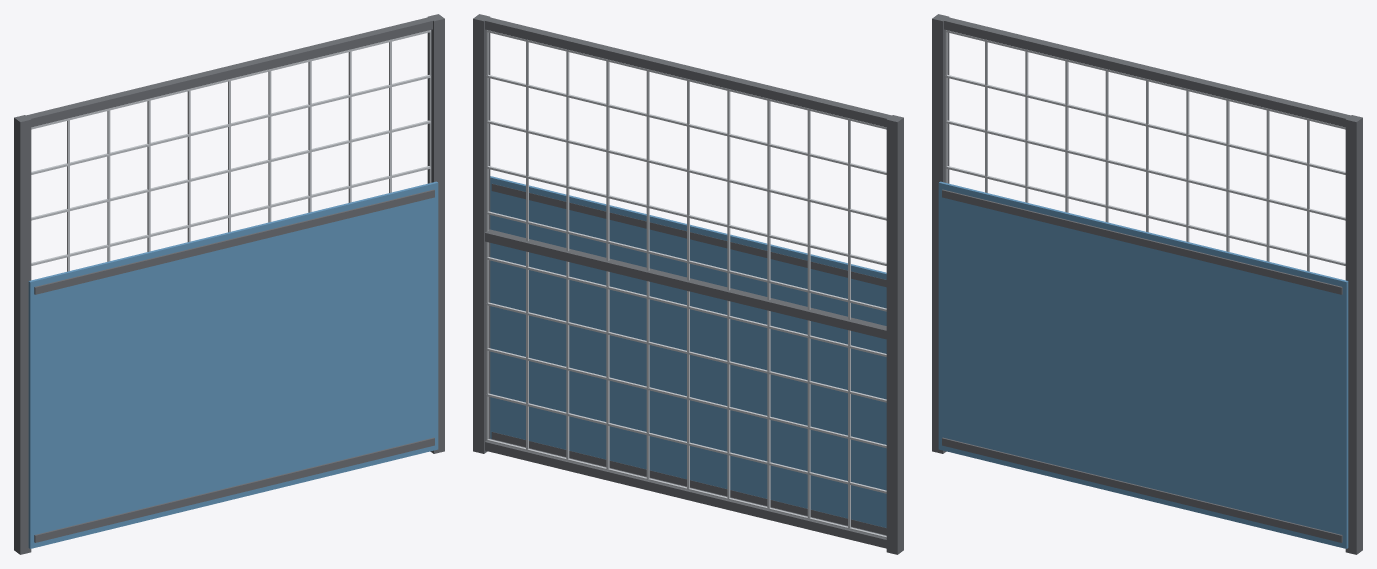
File: tennis-club-and-courts-court-windbreak-panel-0dae07f5__33612.glb
3 renders of one model, left to right at view 1: azimuth 30°, elevation 25°; view 2: azimuth 150°, elevation 25°; view 3: azimuth 330°, elevation 25°, orthographic.
Parts seen in each view (by area): view 1: court-windbreak-panel; view 2: court-windbreak-panel; view 3: court-windbreak-panel.
Boxes of the visible parts, x1,y1,x2,y2 form: court-windbreak-panel: (14, 14, 444, 554); court-windbreak-panel: (473, 14, 903, 554); court-windbreak-panel: (932, 14, 1362, 554).
Bounding box in the file's own units: 3.08 × 3 × 0.112.
